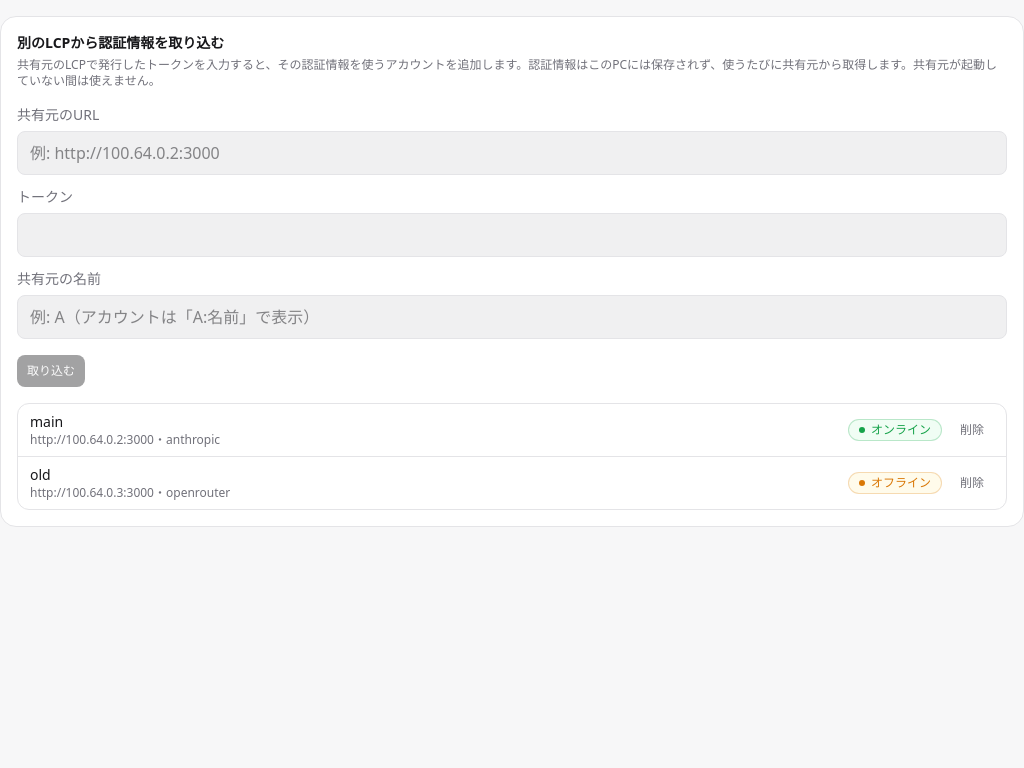
Test case: PeerImportSettings › lists imported peer accounts with their connection state and deletes with a reload
Check: the text "main" is shown, box [30,412,63,431]
Check: the text "オンライン" is shown, box [848,419,942,441]
Click the button "削除" next to "オフライン" at [972, 483], box [950,467,994,499]
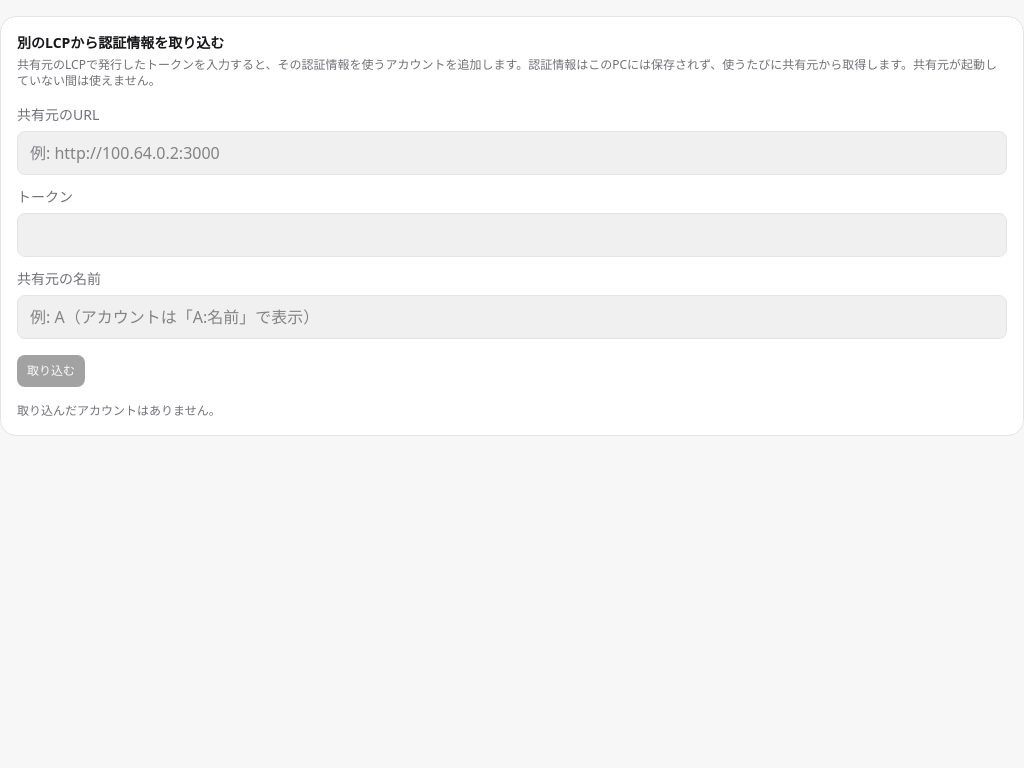
Check: the text "old" is gone
